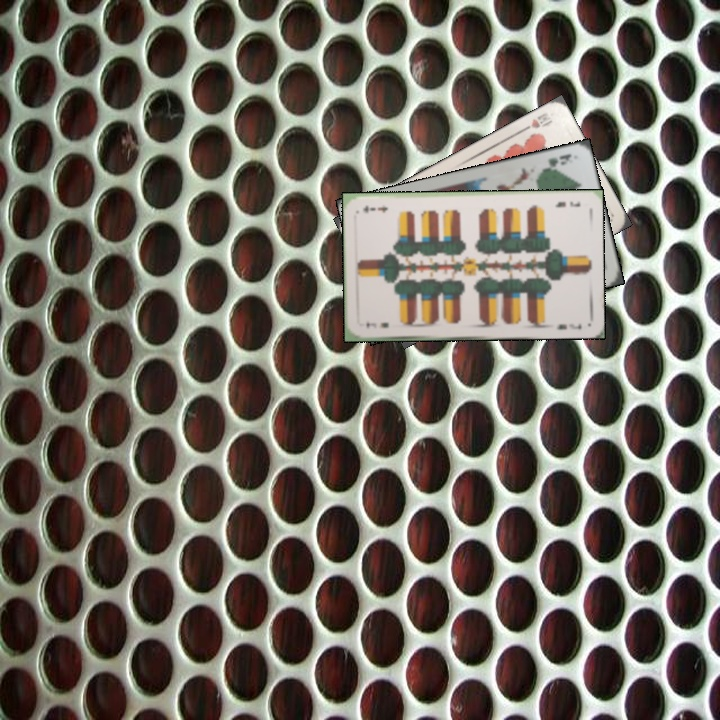E7: (551, 197, 583, 210), (362, 318, 391, 331)
GK: (544, 149, 574, 169)
H10: (517, 108, 555, 135)
